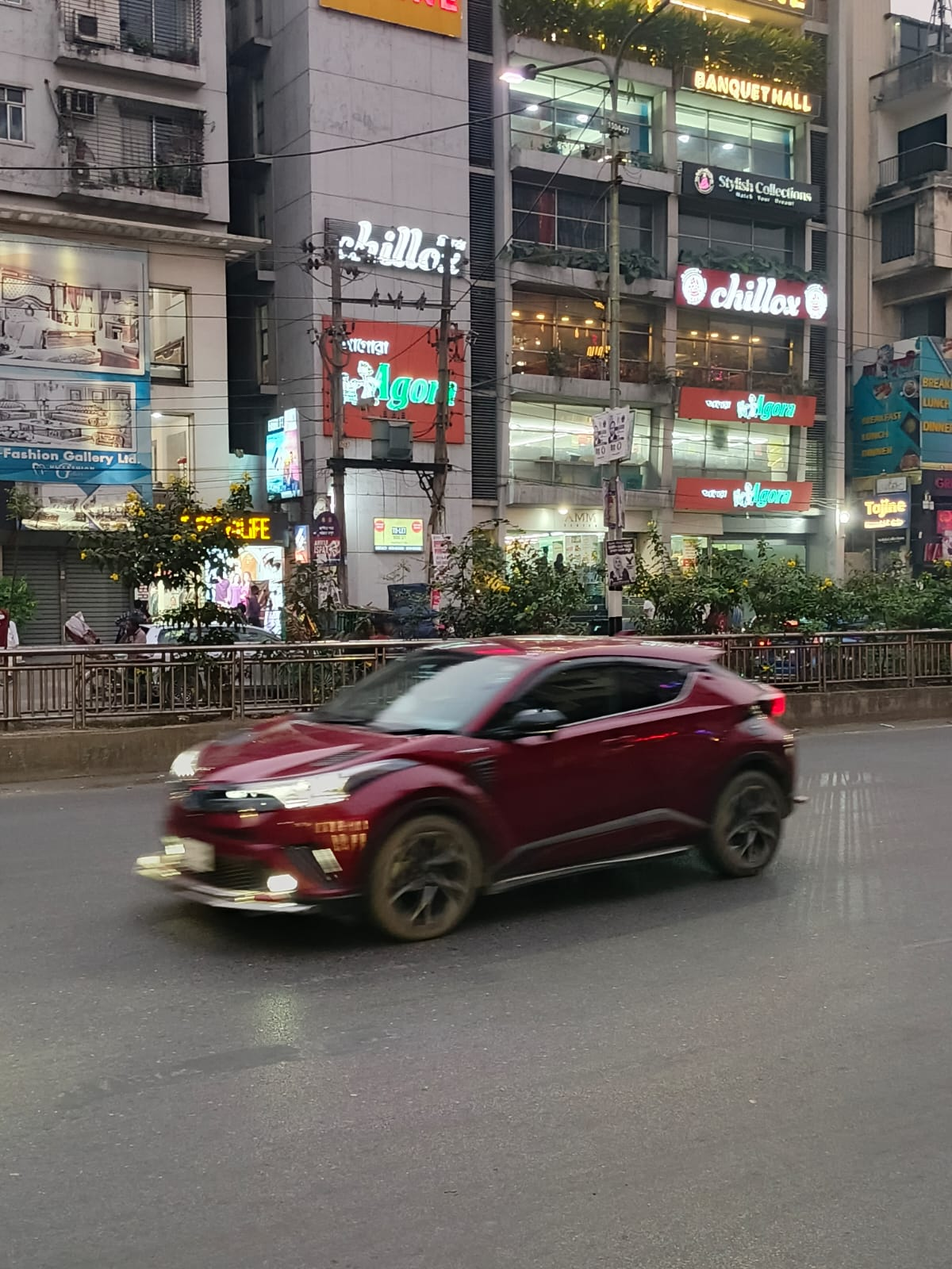private car: (111, 612, 825, 943)
